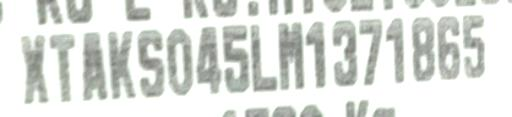letter: (246, 17, 280, 100), (164, 23, 198, 102), (18, 29, 52, 108), (218, 19, 252, 96), (136, 25, 170, 102), (104, 26, 138, 103), (44, 27, 78, 104), (78, 25, 110, 106), (276, 16, 308, 95), (194, 21, 224, 100), (408, 8, 438, 85), (460, 9, 490, 84), (331, 14, 361, 89), (356, 14, 386, 89), (302, 16, 330, 93), (384, 11, 408, 88), (436, 9, 460, 84)
